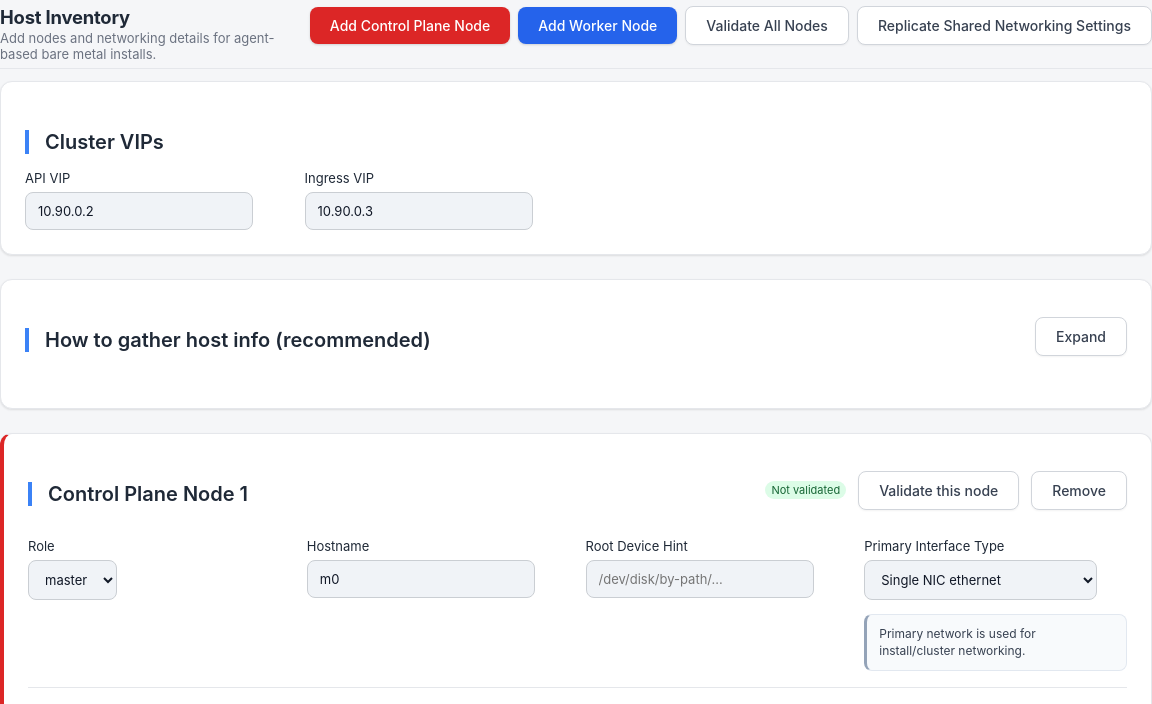
it: DOC-107 T1: HostInventoryStep version-neutral copy › combining hint note is version-neutral
Click the button "Expand" at (1081, 336), box [1035,316,1127,356]
(page scrolled)
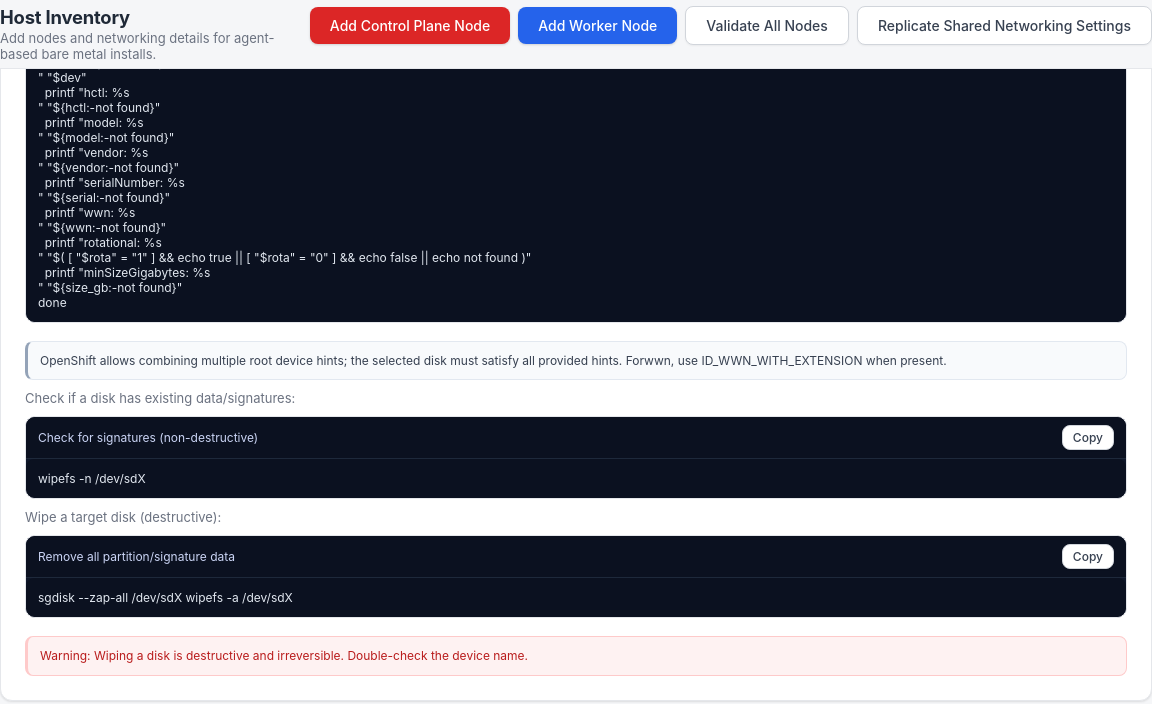
Expected: the text "allows combining multiple root device hints" shows "OpenShift allows combining", [40,353,644,368]
